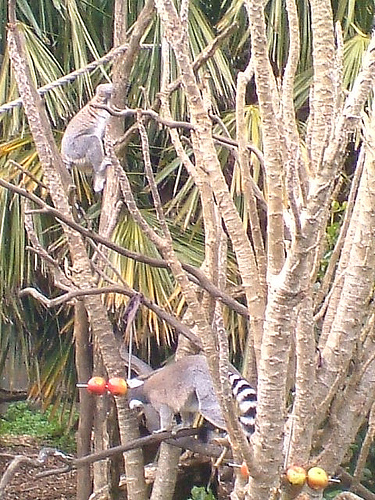cat: (126, 355, 258, 448), (60, 81, 123, 187)
